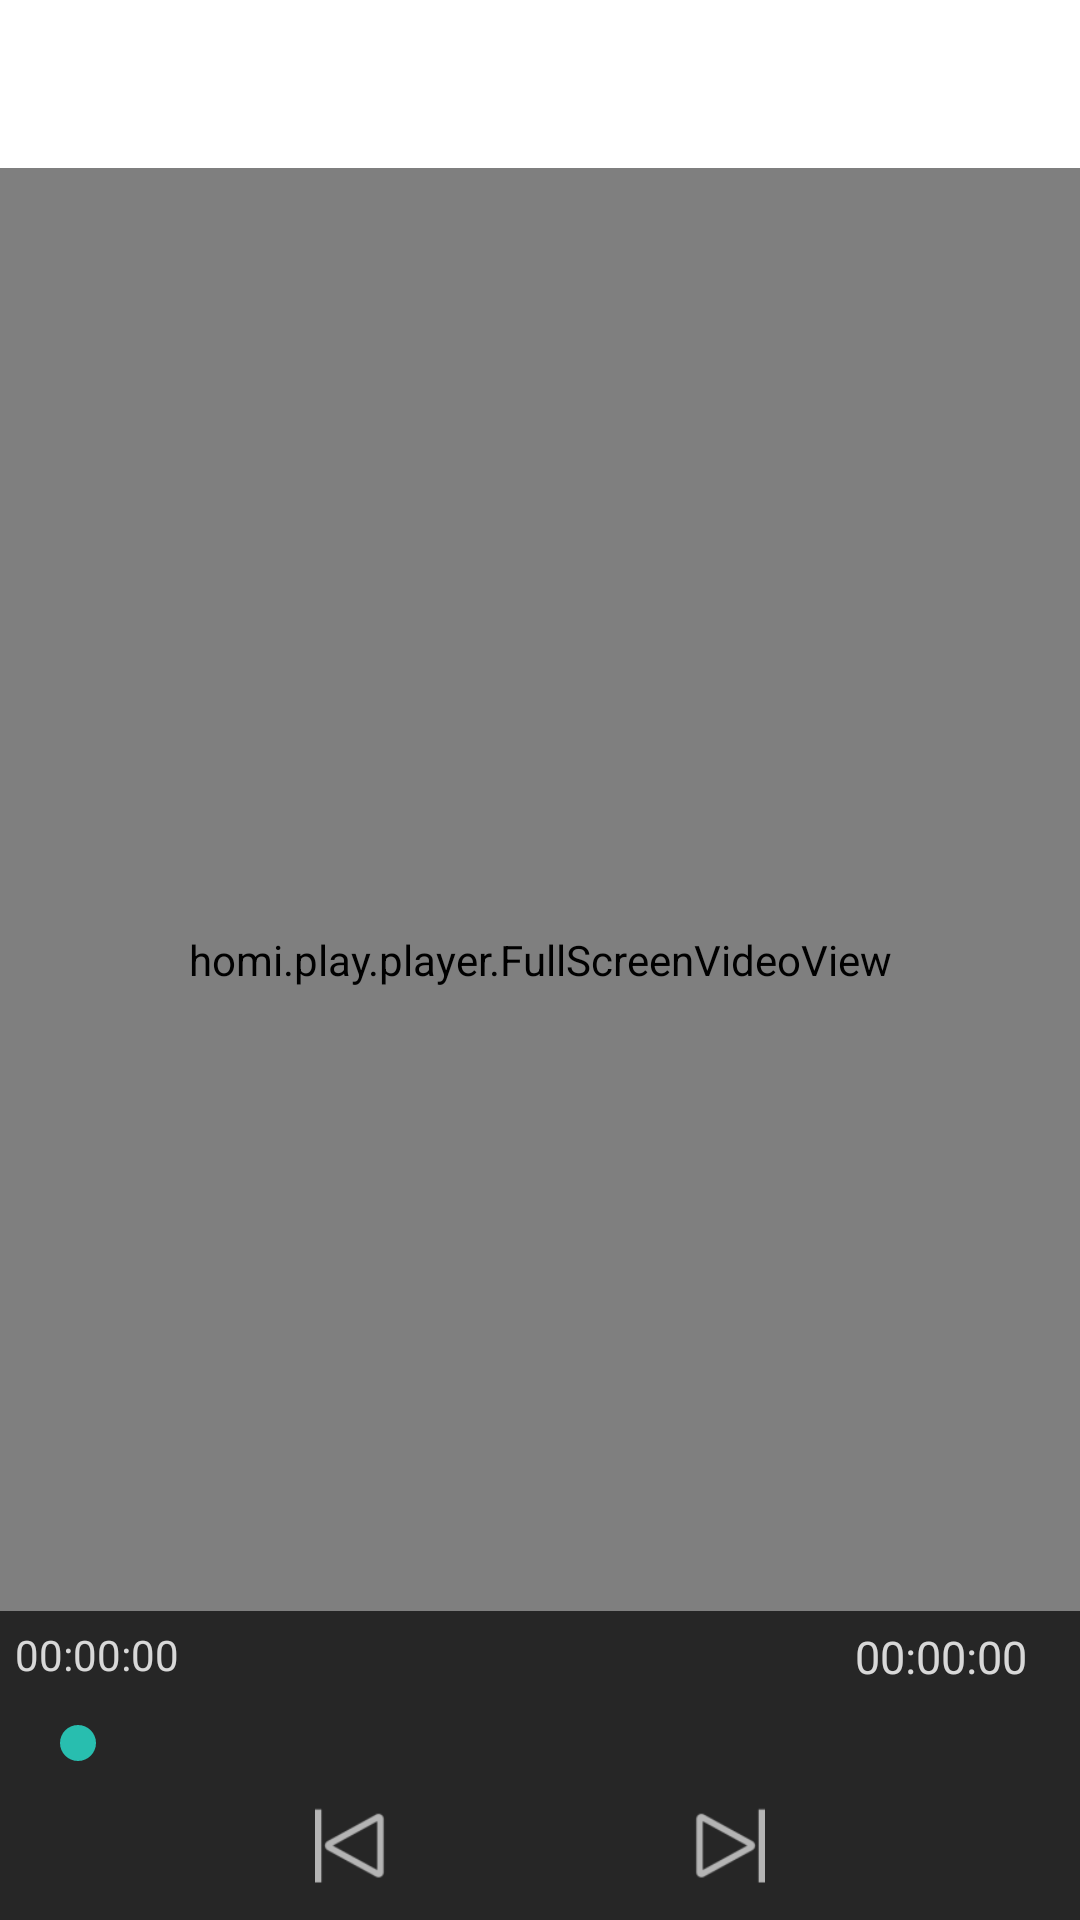

Icon click points for this 1080x1920 phone screenshot, format (x=x, y=y):
back: (x=349, y=1846)
next: (x=730, y=1846)
